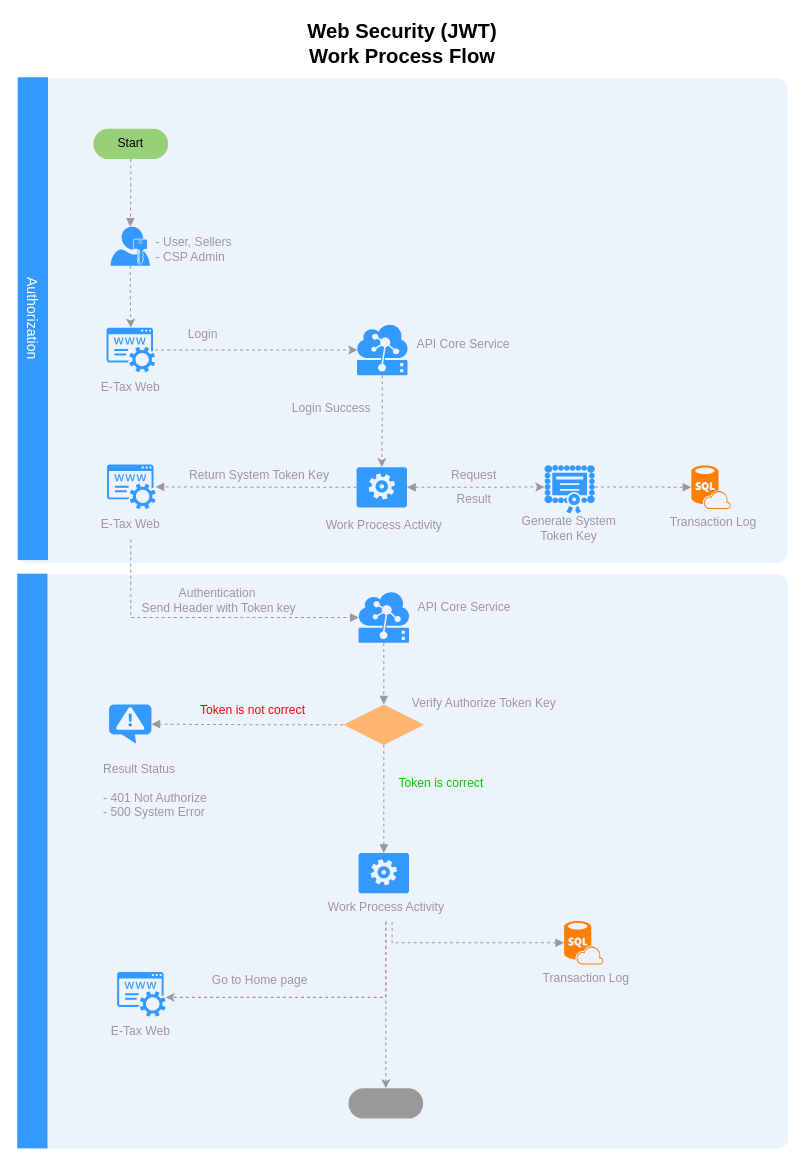
Some shapes in this 806 by 1166 pixel diagram are drawn without their labels. Each missing label, with the centre of its shape:
"End" goes at [385,1103].
"Hight Security" goes at [32,860].
